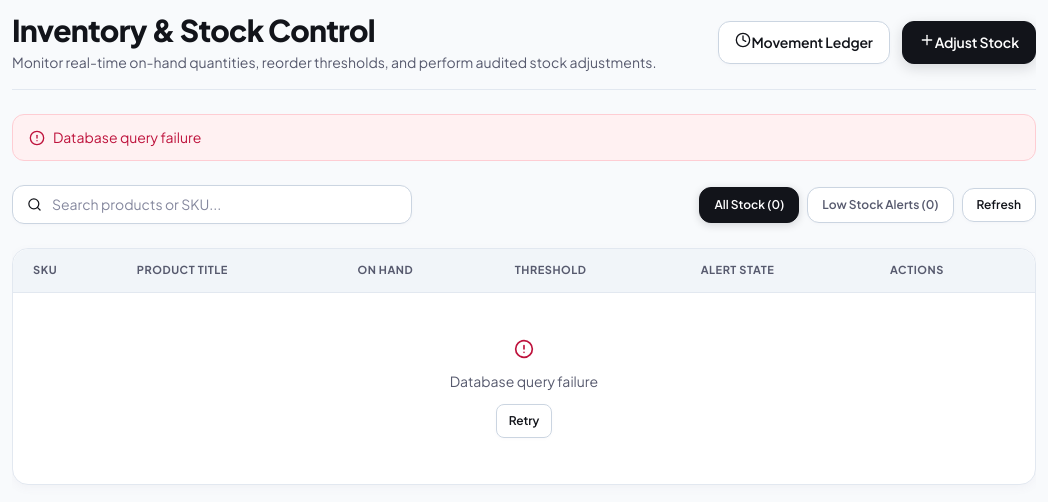
Test case: Phase 3 Operations Frontend Components › Operations Layout, Loading States, and Error Recovery Regression Suite › InventoryPage handles error state with safe in-table retry button and provides empty action
Note: Trigger retry
Click the button "Retry" at (524, 421), box [496,404,552,438]
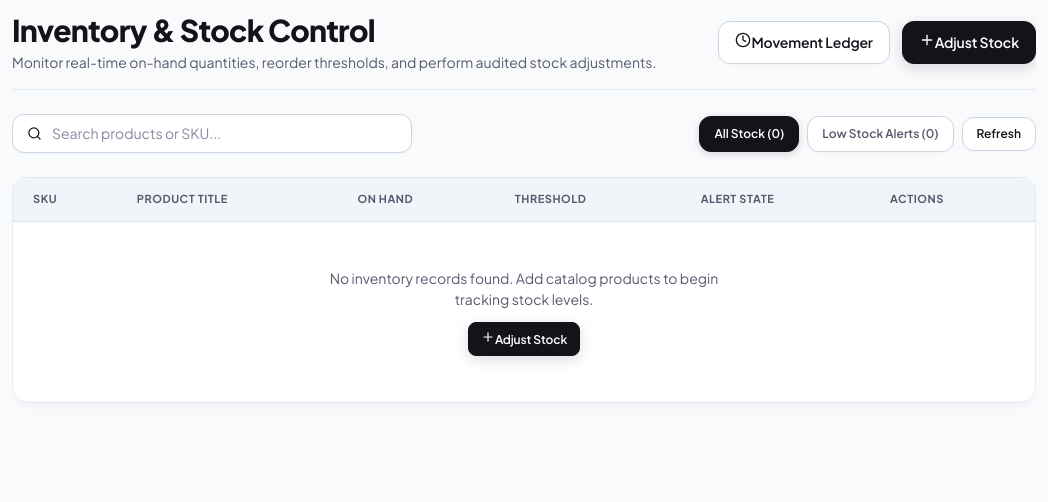
expect the text "No inventory records found" is shown: met, box [330,269,718,308]
